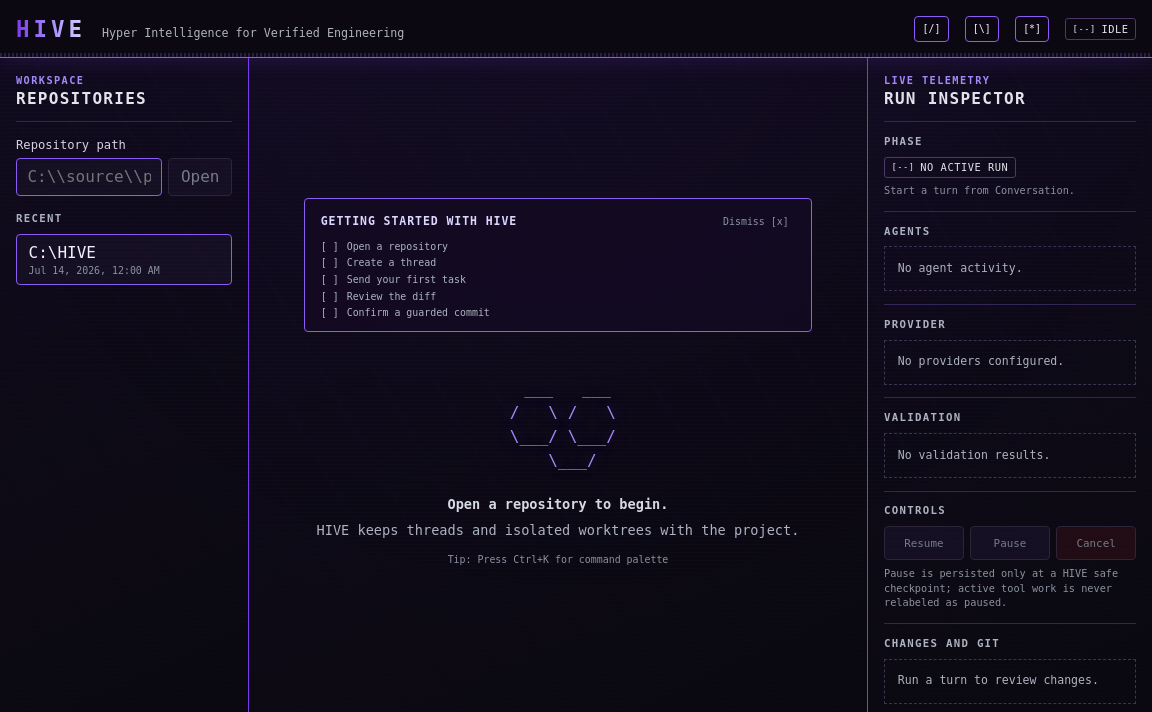
Scenario: HIVE desktop cockpit › requires an explicit one-use confirmation dialog for guarded Git
The width and height of the screenshot is (1152, 712).
Click the button "C:\\HIVE Jul 14, 2026, 12:00 AM" at coordinates (124, 259), box [16, 234, 232, 284]
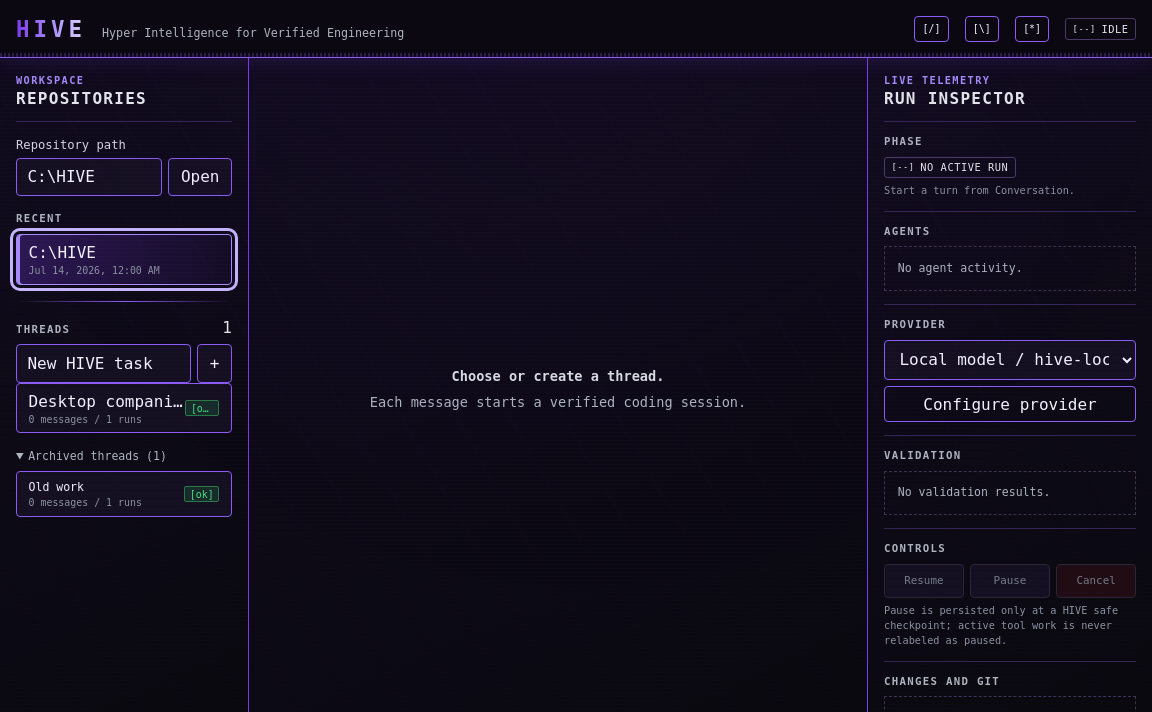
Now the button "Desktop companion 0 messages / 1 runs [ok]" is shown
Click the button "Desktop companion 0 messages / 1 runs [ok]" at coordinates (124, 408), box [16, 383, 232, 433]
(page scrolled)
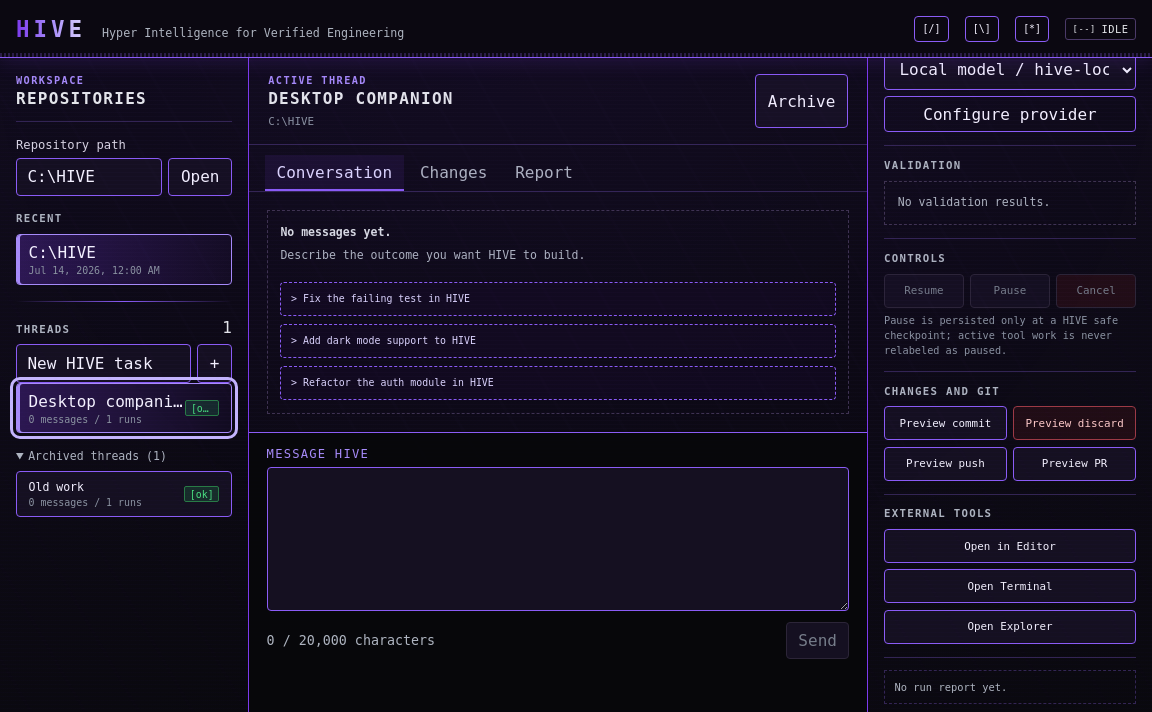
Click the button "Preview commit" at coordinates (945, 423), box [884, 406, 1007, 440]
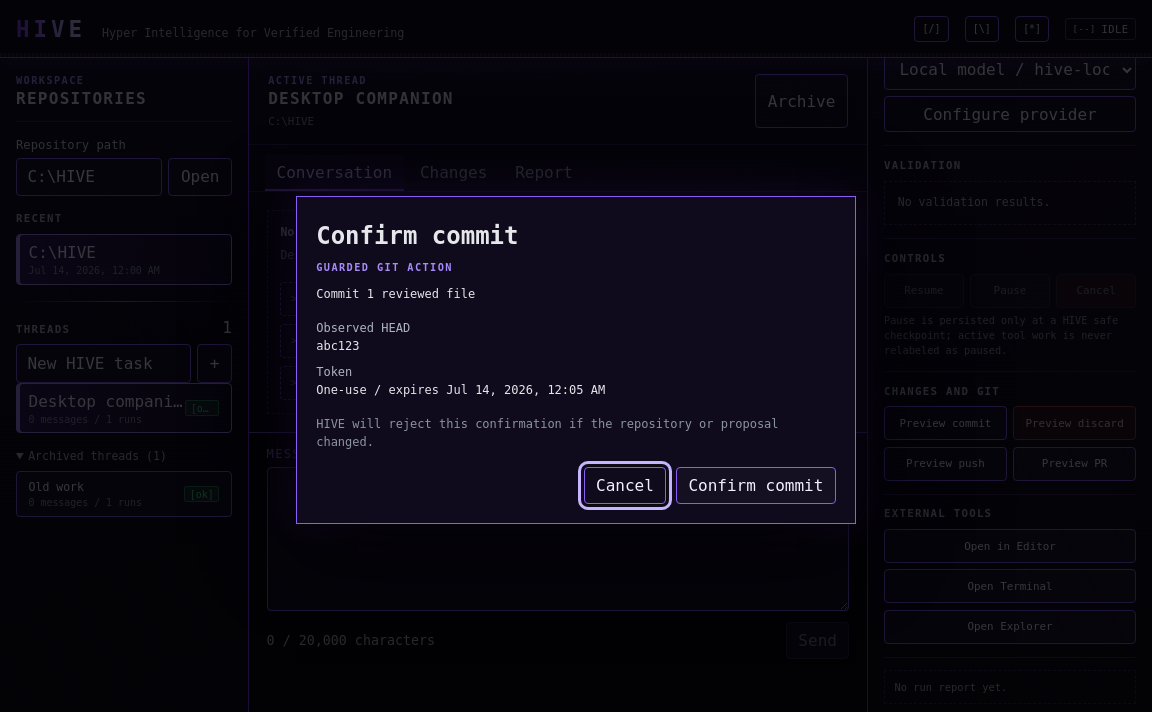
Now the text "One-use / expires Jul 14, 2026, 12:05 AM" is shown, box [316, 383, 605, 397]
Click the button "Confirm commit" at coordinates (756, 485), box [676, 467, 836, 504]
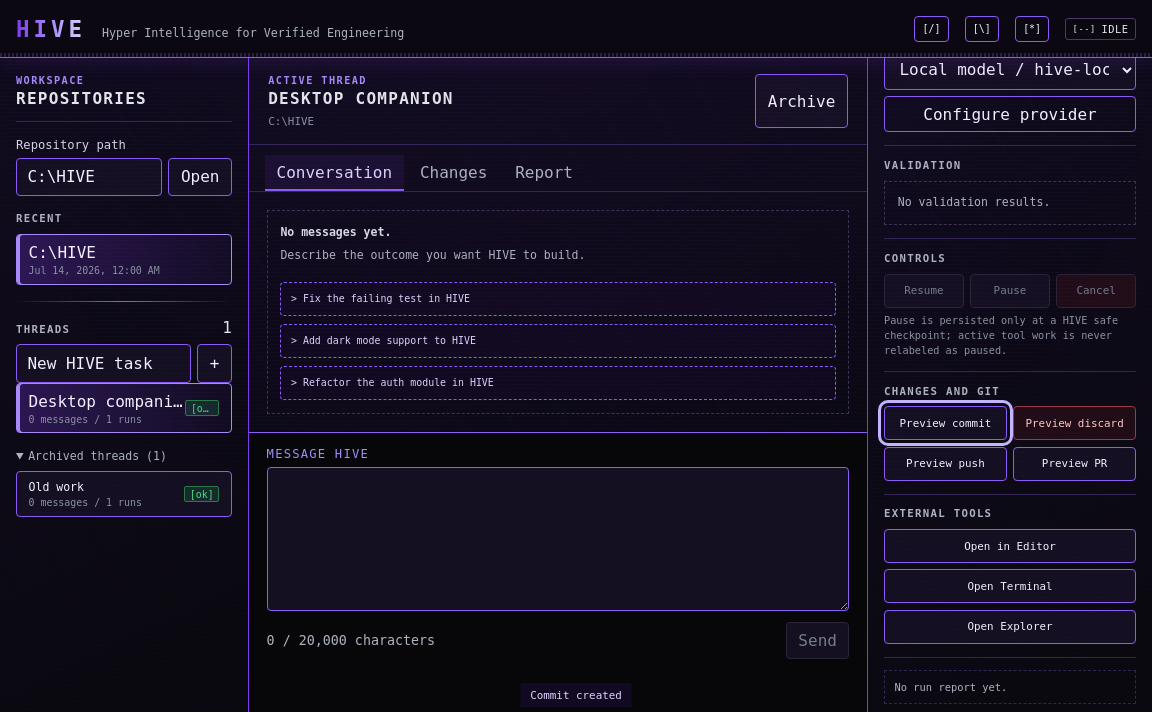
Now the dialog is gone
